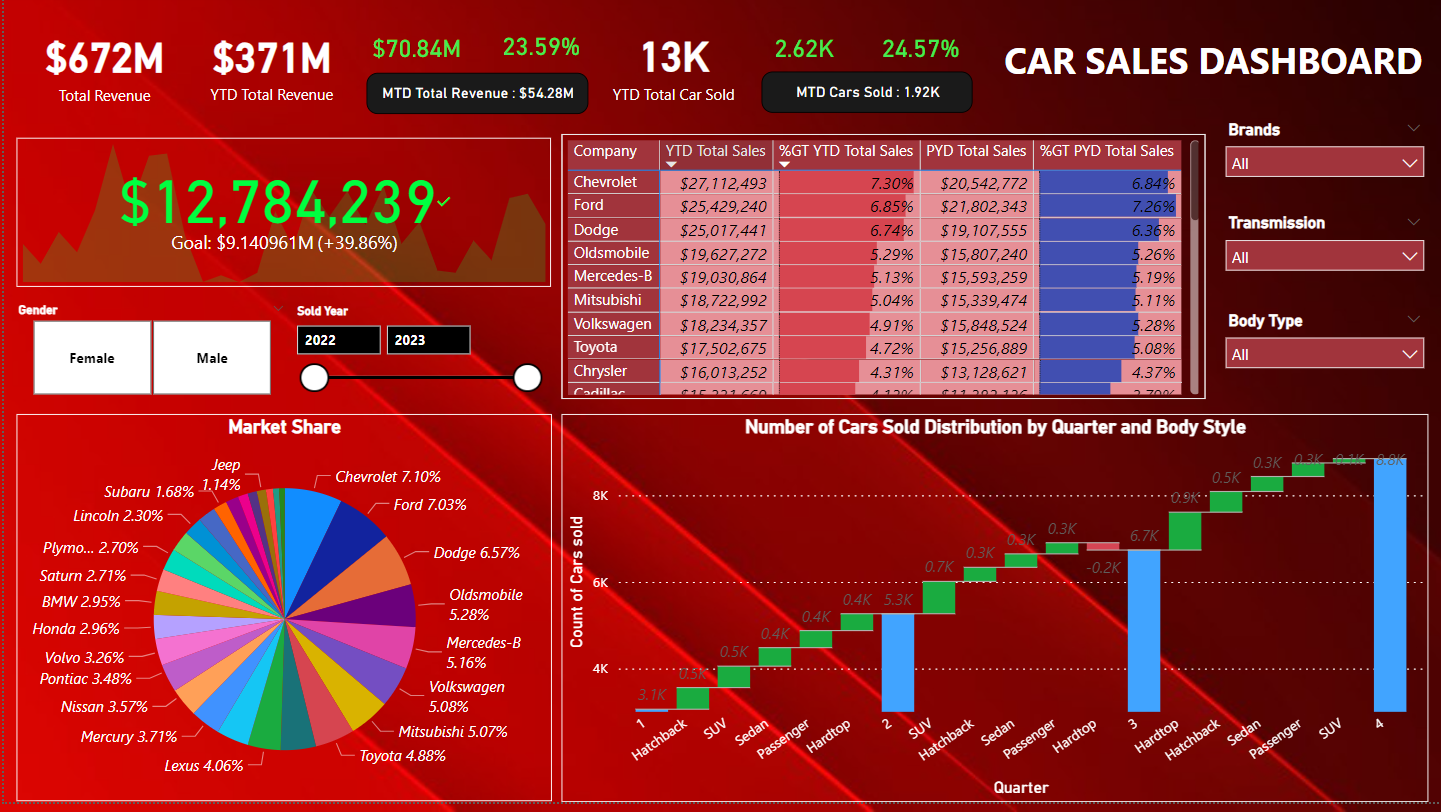

This screenshot's page, from the dashboard's own definition file:
{"tool":"powerbi","page":{"name":"Sales","canvas":[1280,720],"ordinal":0},"visuals":[{"type":"card","fields":{"Values":["car_data.Price ($)"]},"box":[0,1.2,179.8,123.1],"z":0},{"type":"card","fields":{"Values":["Table.YTD Total Car Sold"]},"box":[507.2,0,178.2,123.4],"z":1000},{"type":"slicer","fields":{"Values":["car_data.Body Style"]},"box":[1077.6,277.1,197,74.6],"z":2000},{"type":"slicer","fields":{"Values":["Calender.Year"]},"box":[248.1,270.8,239.4,102.8],"z":3000},{"type":"pieChart","title":"Market Share","fields":{"Y":["Table.Total_Selling_Price"],"Category":["car_data.Company"]},"box":[10.9,374,476.5,345],"z":4000},{"type":"slicer","fields":{"Values":["car_data.Transmission"]},"box":[1077.6,190.2,197,84.6],"z":5000},{"type":"textbox","box":[871.6,32.3,396.3,57.9],"z":6000},{"type":"card","fields":{"Values":["Table.YTD"]},"box":[111,4.1,255,115.1],"z":7000},{"type":"card","fields":{"Values":["Table.Difference"]},"box":[318.3,26,98.7,45.2],"z":8000},{"type":"card","fields":{"Values":["Table.YOY Sales Growth"]},"box":[429.7,24.5,98,44.5],"z":9000},{"type":"slicer","fields":{"Values":["car_data.Company"]},"box":[1077.6,106.8,197,89.1],"z":10000},{"type":"kpi","fields":{"Indicator":["Measure.YTD Total Sales"],"Goal":["Measure.PYD Total Sales"],"TrendLine":["car_data.Company"]},"box":[11,127.5,475.6,133],"z":11000},{"type":"card","fields":{"Values":["Table.Cars Sold Diff"]},"box":[663.8,26,98.7,45.2],"z":12000},{"type":"card","fields":{"Values":["Table.YOY Cars Sold Growth"]},"box":[767,25.6,99.1,45.6],"z":13000},{"type":"pivotTable","fields":{"Rows":["car_data.Company"],"Values":["Measure.YTD Total Sales","Divide(Measure.YTD Total Sales, ScopedEval(Measure.YTD Total Sales, []))","Measure.PYD Total Sales","Divide(Measure.PYD Total Sales, ScopedEval(Measure.PYD Total Sales, []))"]},"box":[496.5,124.7,573.3,236],"z":14000},{"type":"slicer","fields":{"Values":["car_data.Gender"]},"box":[0.3,269.5,261.8,94.6],"z":15000},{"type":"card","fields":{"Values":["Measure.MTD KPI"]},"box":[322.4,69.9,197.4,37],"z":16000},{"type":"card","fields":{"Values":["Measure.MTD Cars Sold KPI"]},"box":[674.6,69,188.1,36.7],"z":17000},{"type":"waterfallChart","title":"Number of Cars Sold Distribution by Quarter and Body Style","fields":{"Y":["car_data.Car_id"],"Breakdown":["car_data.Body Style"],"Category":["Calender.Quarters"]},"box":[496.2,374.6,771.7,345.4],"z":18000}]}

Visuals, with their boxes in screenshot pixels (x1, y1, x2, y2), scaled from the page's 1280x720 canvas onto the 1441x812 screenshot:
card - car_data.Price ($): 0 1 202 140
card - Table.YTD Total Car Sold: 571 0 772 139
slicer - car_data.Body Style: 1213 313 1435 397
slicer - Calender.Year: 279 305 549 421
"Market Share" pieChart: 12 422 549 811
slicer - car_data.Transmission: 1213 215 1435 310
textbox: 981 36 1427 102
card - Table.YTD: 125 5 412 134
card - Table.Difference: 358 29 469 80
card - Table.YOY Sales Growth: 484 28 594 78
slicer - car_data.Company: 1213 120 1435 221
kpi - Measure.YTD Total Sales x Measure.PYD Total Sales: 12 144 548 294
card - Table.Cars Sold Diff: 747 29 858 80
card - Table.YOY Cars Sold Growth: 863 29 975 80
pivotTable - car_data.Company x Measure.YTD Total Sales: 559 141 1204 407
slicer - car_data.Gender: 0 304 295 411
card - Measure.MTD KPI: 363 79 585 121
card - Measure.MTD Cars Sold KPI: 759 78 971 119
"Number of Cars Sold Distribution by Quarter and Body Style" waterfallChart: 559 422 1427 811
